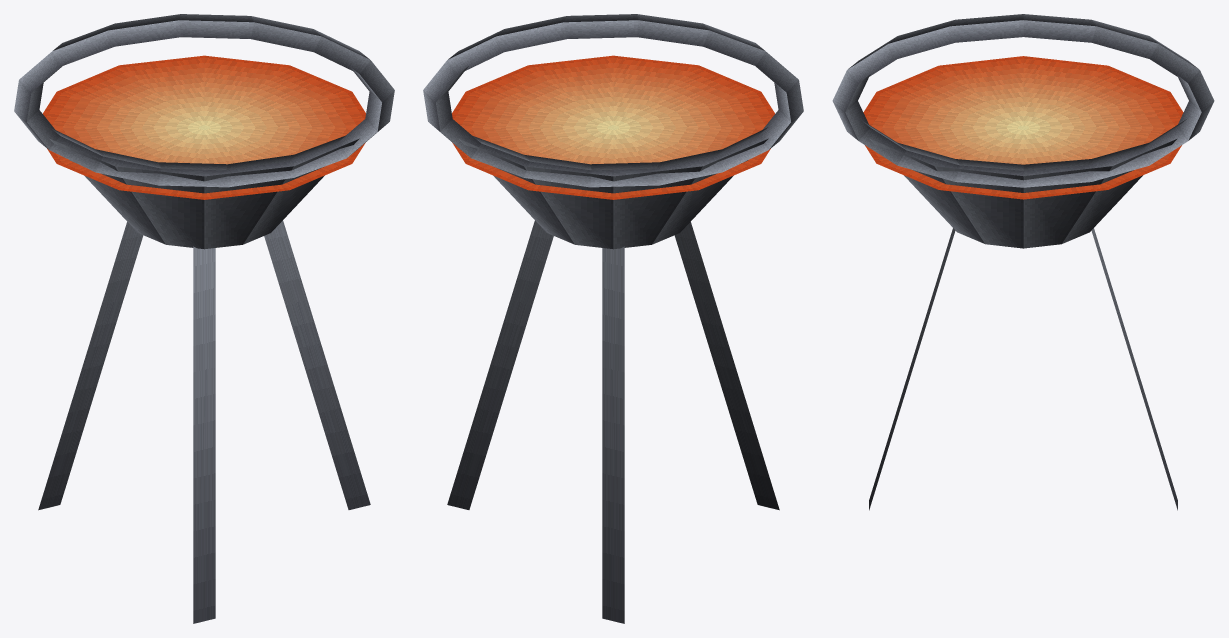
The model's file is brazier.glb.
3 renders of one model, left to right at view 1: azimuth 30°, elevation 25°; view 2: azimuth 150°, elevation 25°; view 3: azimuth 270°, elevation 25°, orthographic.
Visible parts, largest first — view 1: brazier; view 2: brazier; view 3: brazier.
Boxes of the visible parts, <box> form: brazier: <box>14,14,394,623</box>; brazier: <box>423,14,803,623</box>; brazier: <box>832,14,1214,510</box>.
Bounding box in the file's own units: 0.9 × 1.18 × 0.9.
Materials: 1 (1 with a texture image).
